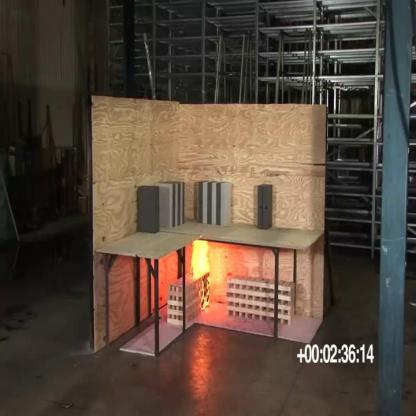fire: (188, 233, 214, 315)
